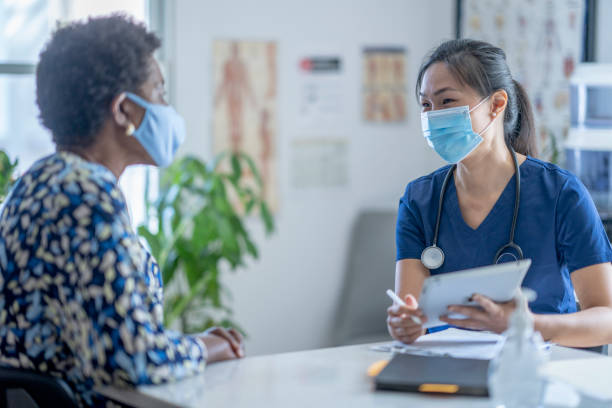with mask: (106, 47, 183, 170), (415, 47, 492, 170)
